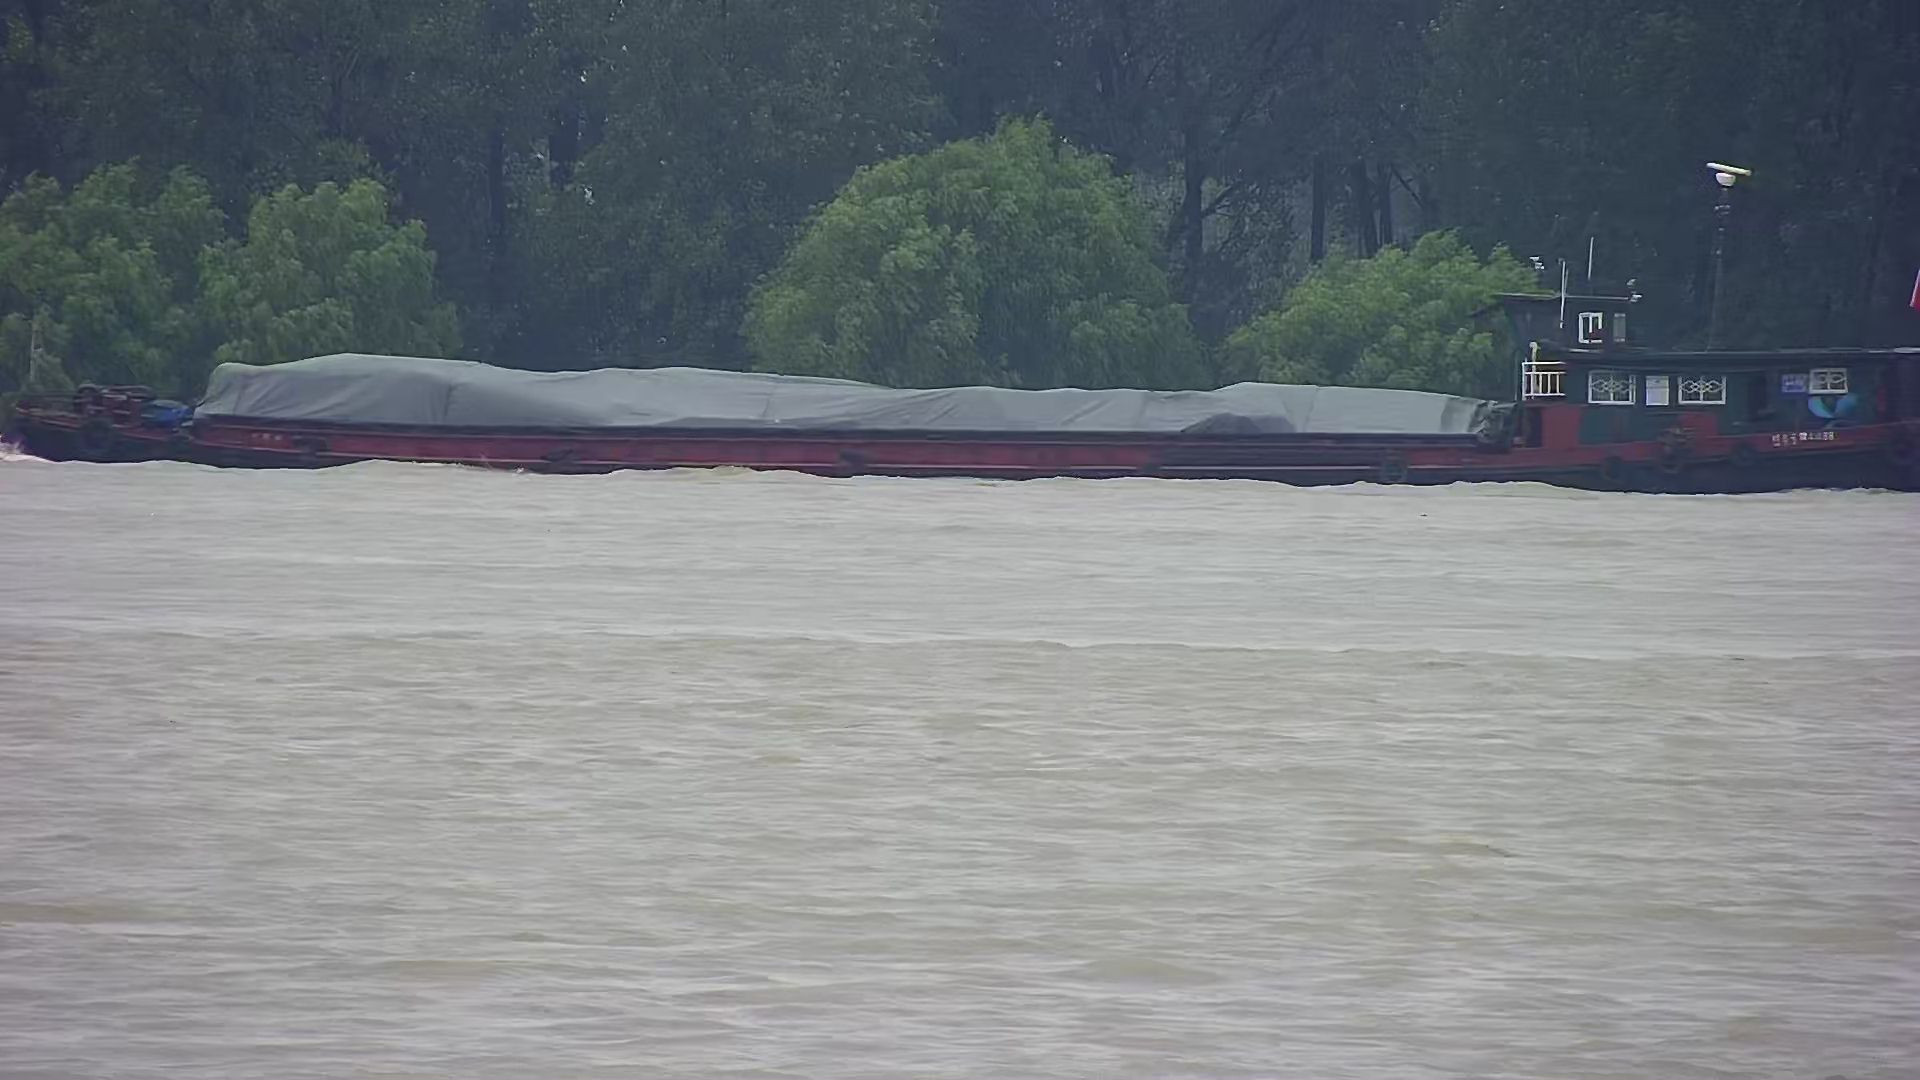ship: (11, 152, 1920, 512)
